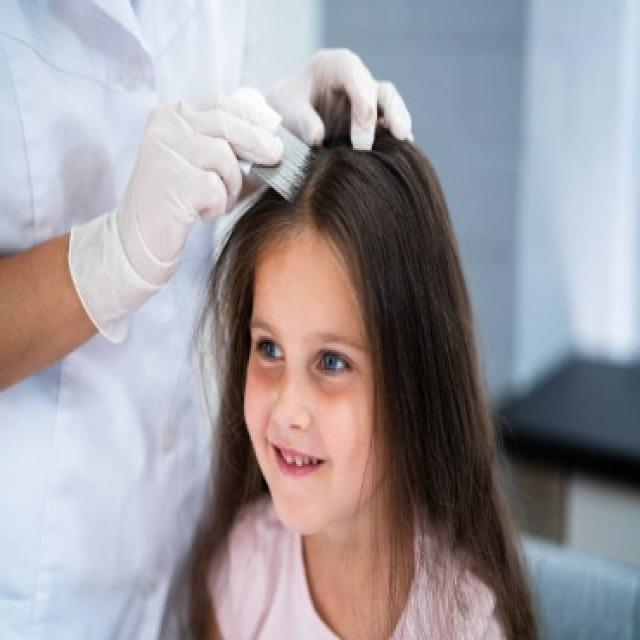child: (150, 102, 546, 640)
